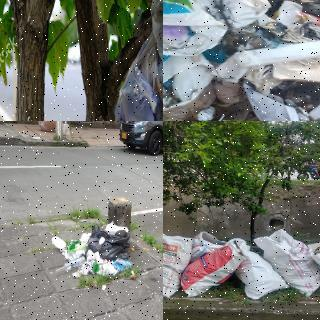Garbage: (108, 0, 163, 121), (241, 57, 320, 121), (163, 0, 229, 66), (253, 231, 320, 296), (163, 49, 217, 121), (182, 239, 241, 296), (88, 220, 130, 268), (163, 231, 187, 298)
